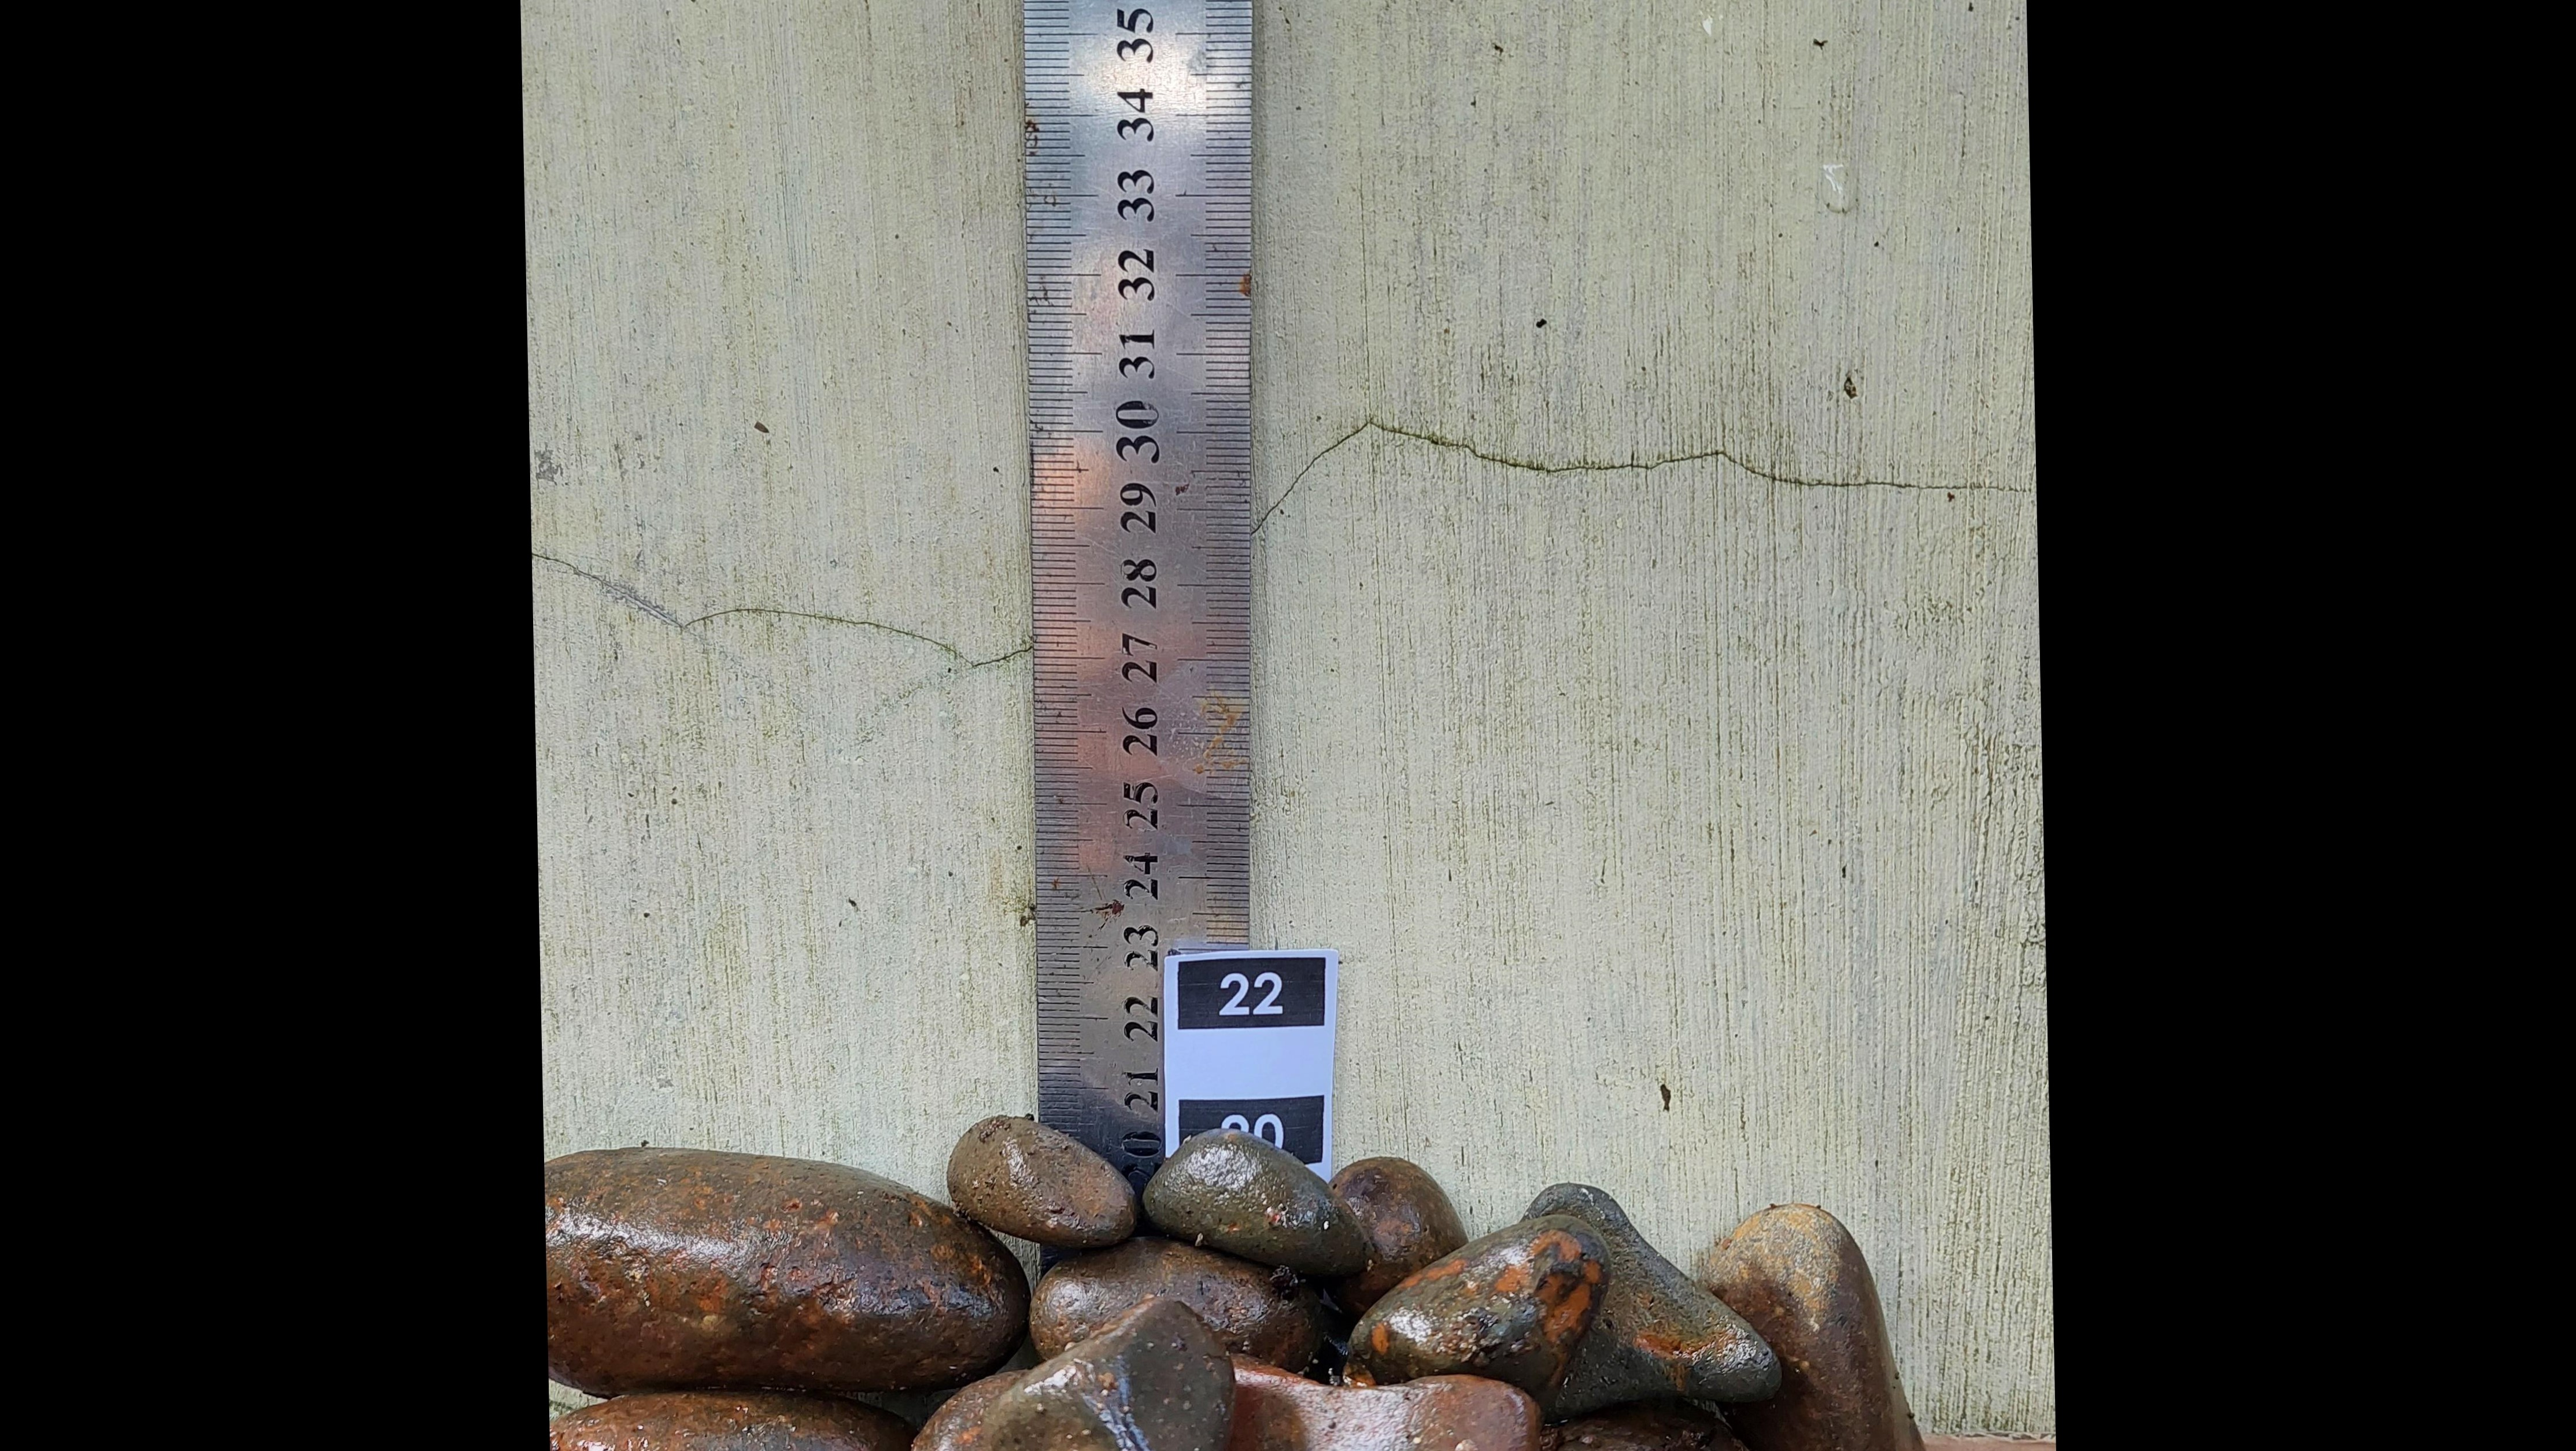kotak_2x1: (1177, 959, 1327, 1030)
